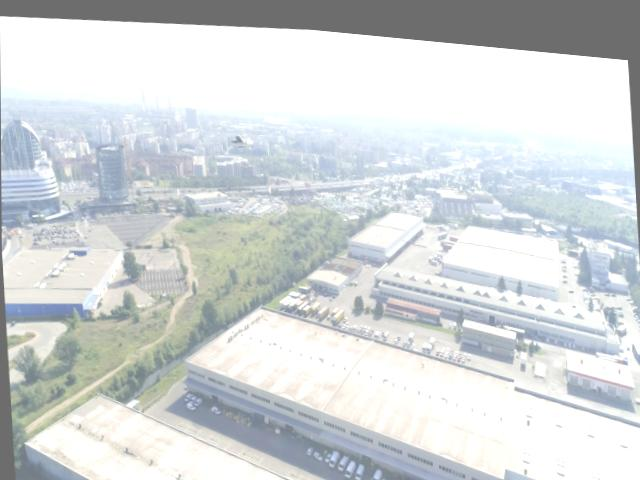plane: (229, 127, 255, 146)
